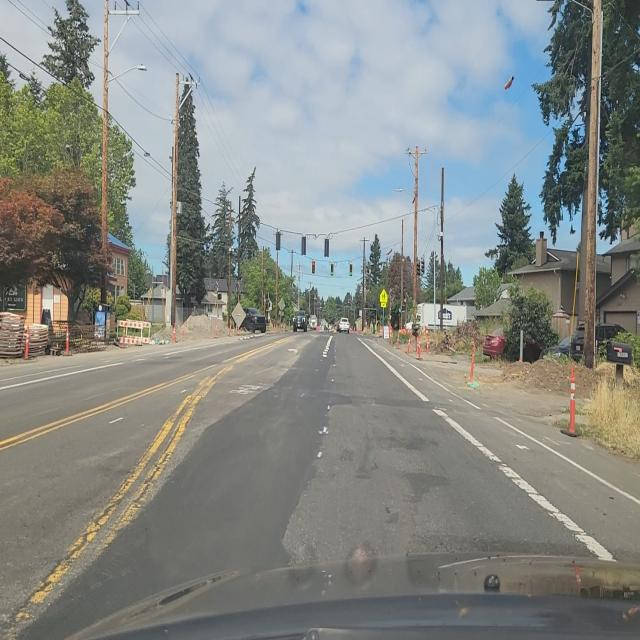car: (482, 322, 547, 370), (568, 324, 628, 363), (482, 329, 540, 363), (544, 336, 574, 360), (240, 308, 267, 334), (293, 310, 308, 332), (338, 317, 350, 334), (404, 321, 416, 333), (309, 316, 318, 330)
crosswalk-sign: (380, 289, 388, 308)
delineator: (560, 360, 580, 437), (468, 344, 476, 383), (25, 324, 30, 360), (65, 323, 70, 355), (416, 334, 422, 360), (406, 332, 412, 355), (396, 329, 400, 349), (425, 337, 429, 354), (214, 322, 218, 338), (173, 322, 176, 342), (379, 324, 383, 338), (181, 323, 184, 339), (235, 324, 239, 335), (228, 324, 231, 336), (316, 324, 320, 333)
